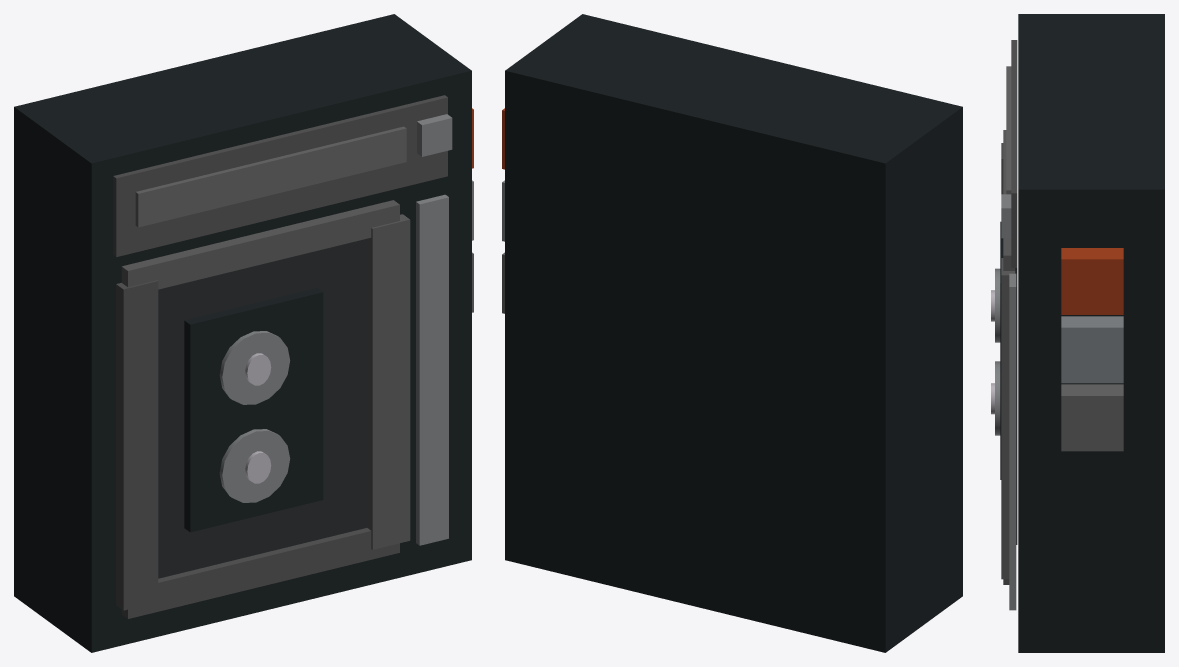
File: CMU3DHandRMCCassettePlayerCloud.glb
3 views of the same model, side by side, from view 1: azimuth 30°, elevation 25°; view 2: azimuth 150°, elevation 25°; view 3: azimuth 270°, elevation 25° (orthographic). The views are drawn at different scales.
Visible parts, largest first — view 1: cassette player main shell, recessed cassette seat, window surround, front upper housing, door right rail, door left rail, hinge-side silver spine, upper speaker strip, door top rail, door lower rail, visible reel at 0.18, visible reel at 0.282 (+3 smaller); view 2: cassette player main shell; view 3: cassette player main shell, side playback button 2, side playback button 3, side playback button 1, door right rail, hinge-side silver spine, front upper housing, upper speaker strip, door top rail, recessed cassette seat, window surround, upper small control (+2 smaller).
Part boxes in pixels (x1,y1,x2,y2): cassette player main shell: [14, 14, 471, 652]; recessed cassette seat: [158, 238, 367, 578]; window surround: [184, 288, 323, 532]; front upper housing: [113, 95, 447, 256]; door right rail: [367, 214, 410, 549]; door left rail: [116, 280, 158, 610]; hinge-side silver spine: [416, 194, 448, 545]; upper speaker strip: [135, 126, 406, 227]; door top rail: [121, 200, 399, 289]; door lower rail: [121, 528, 399, 618]; visible reel at 0.18: [219, 429, 290, 502]; visible reel at 0.282: [219, 331, 290, 404]; cassette player main shell: [505, 14, 962, 652]; cassette player main shell: [1018, 14, 1164, 652]; side playback button 2: [1061, 316, 1123, 383]; side playback button 3: [1061, 384, 1123, 451]; side playback button 1: [1061, 248, 1123, 314]; door right rail: [1001, 258, 1015, 579]; hinge-side silver spine: [1009, 273, 1016, 610]; front upper housing: [1011, 40, 1017, 267]; upper speaker strip: [1006, 66, 1011, 194]; door top rail: [1003, 130, 1015, 270]; recessed cassette seat: [1015, 268, 1017, 544]; window surround: [1000, 221, 1003, 479]; upper small control: [1001, 194, 1011, 238].
Size of the model in its own units: 0.441 by 0.509 by 0.173.
